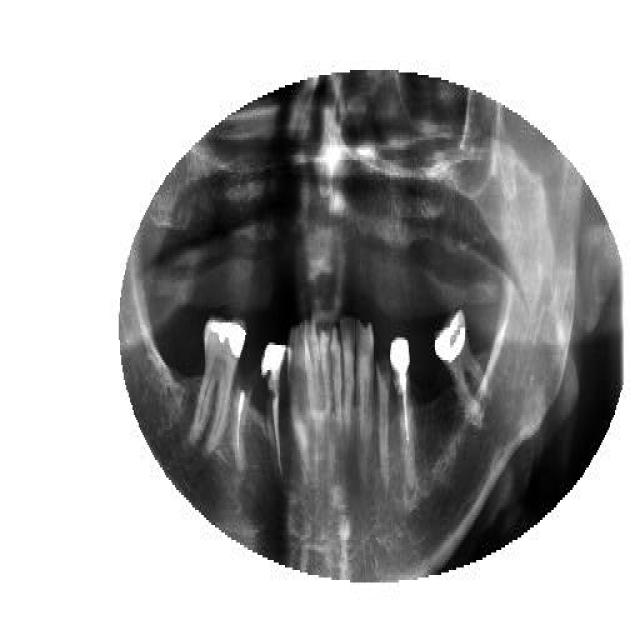Cavity: (234, 368, 255, 472)
Fillings: (190, 315, 250, 453), (432, 308, 498, 428)
Implant: (262, 335, 288, 483), (390, 335, 414, 453)
